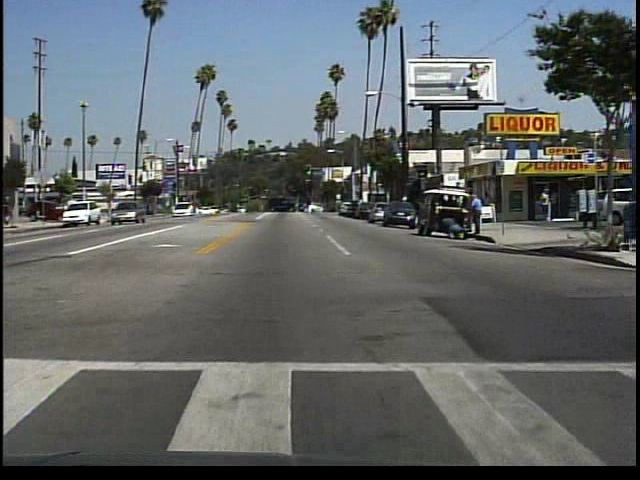person: (468, 190, 487, 239), (538, 186, 553, 226), (441, 215, 463, 241), (548, 187, 560, 218), (3, 194, 14, 226)
